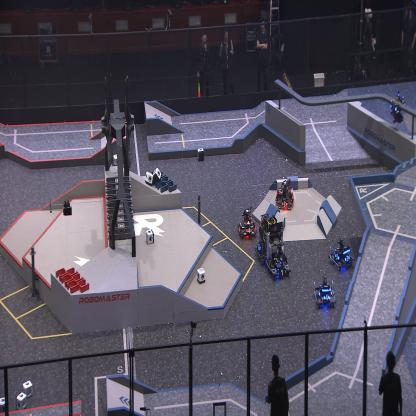car: (265, 221, 291, 280), (255, 212, 276, 263), (329, 237, 354, 271), (314, 275, 336, 308), (275, 178, 295, 210), (237, 208, 257, 240)
